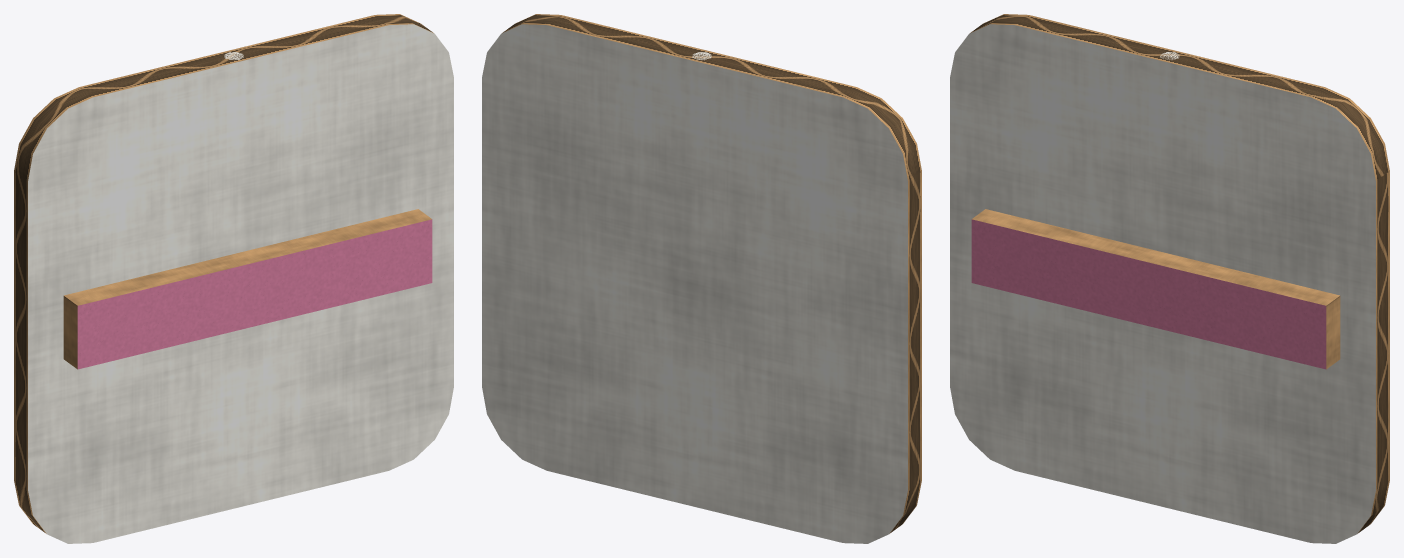
The model's file is goal_letter_1.gltf.
3 renders of one model, left to right at view 1: azimuth 30°, elevation 25°; view 2: azimuth 150°, elevation 25°; view 3: azimuth 330°, elevation 25°, orthographic.
Parts seen in each view (by area): view 1: goal_letter_1; view 2: goal_letter_1; view 3: goal_letter_1.
Part boxes in pixels (box(x1,y1,x2,y2)): goal_letter_1: box(14, 14, 453, 543); goal_letter_1: box(482, 14, 921, 543); goal_letter_1: box(950, 14, 1389, 543).
Bounding box in the file's own units: 1.05 × 1.05 × 0.12.
3 materials, 3 textured.
